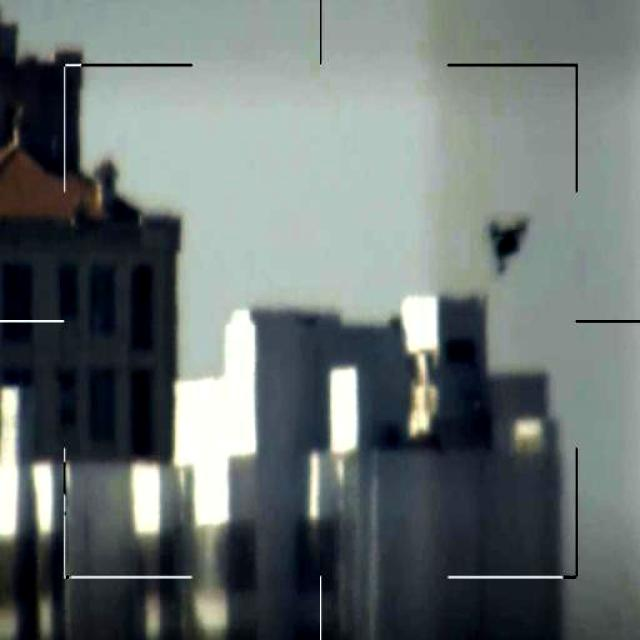bird: (481, 206, 532, 284)
